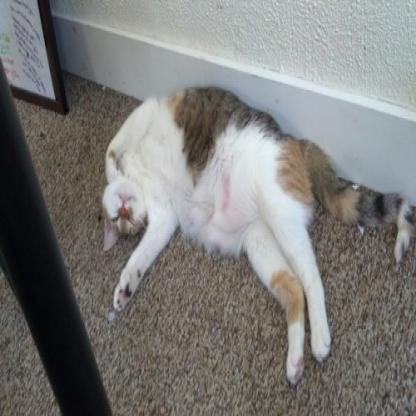Target: (100, 87, 414, 388)
